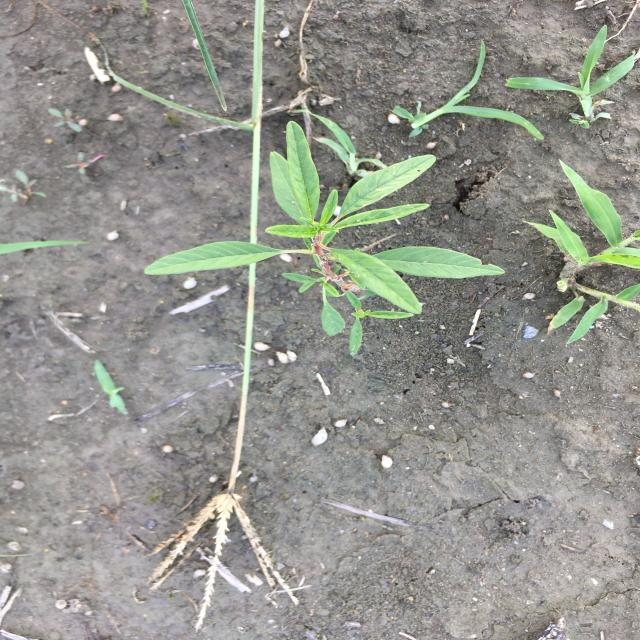Goosegrass: (496, 24, 638, 128)
Waterhemp: (141, 119, 508, 357)
